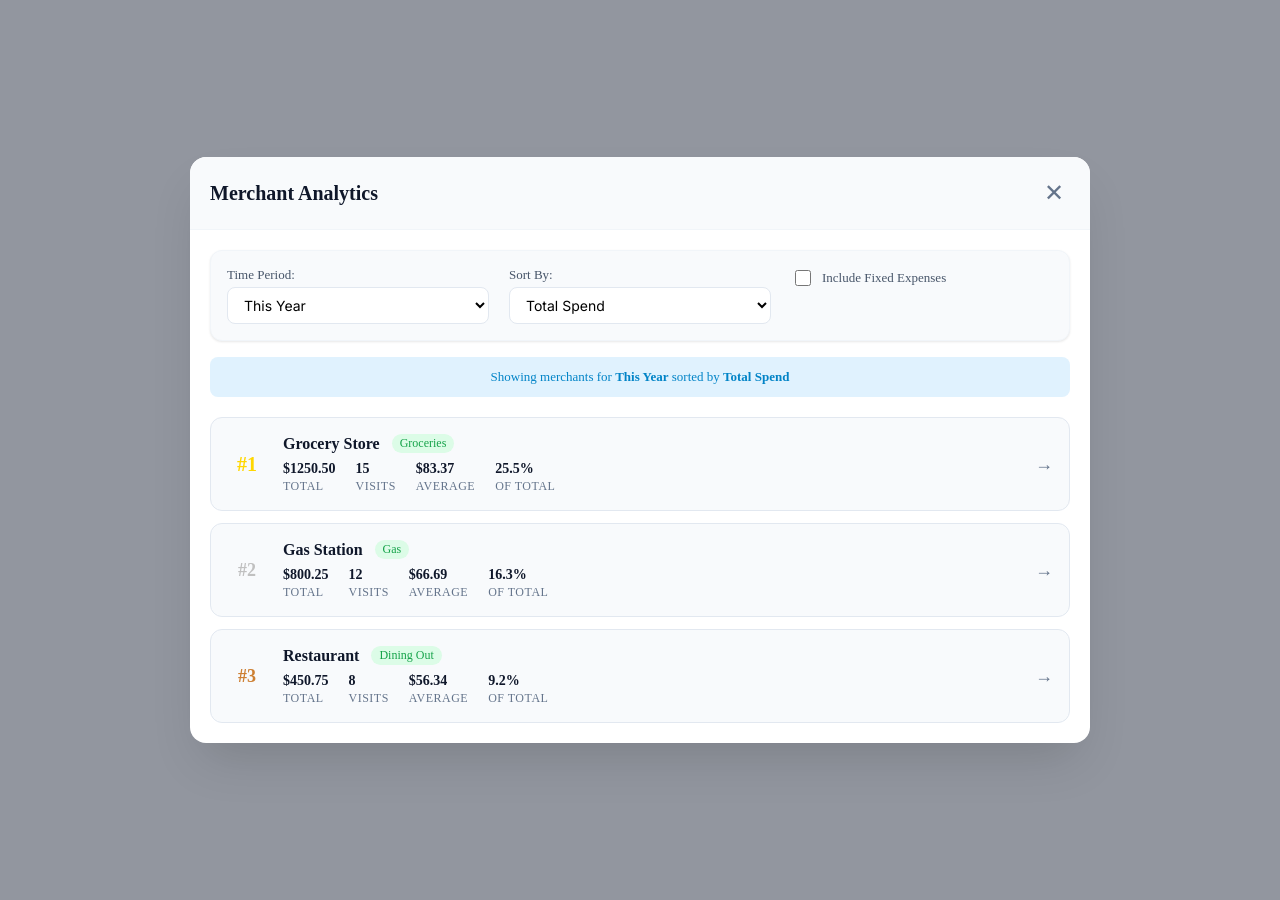
Test case: MerchantAnalyticsModal › Sort Toggle Functionality › handles all sort options correctly
The image size is (1280, 900).
Expected: the text "Grocery Store" is shown, [283,434,380,452]
Select "Visit Count" in the dropdown below "Sort By:" at [640, 306], box [509,287,771,324]
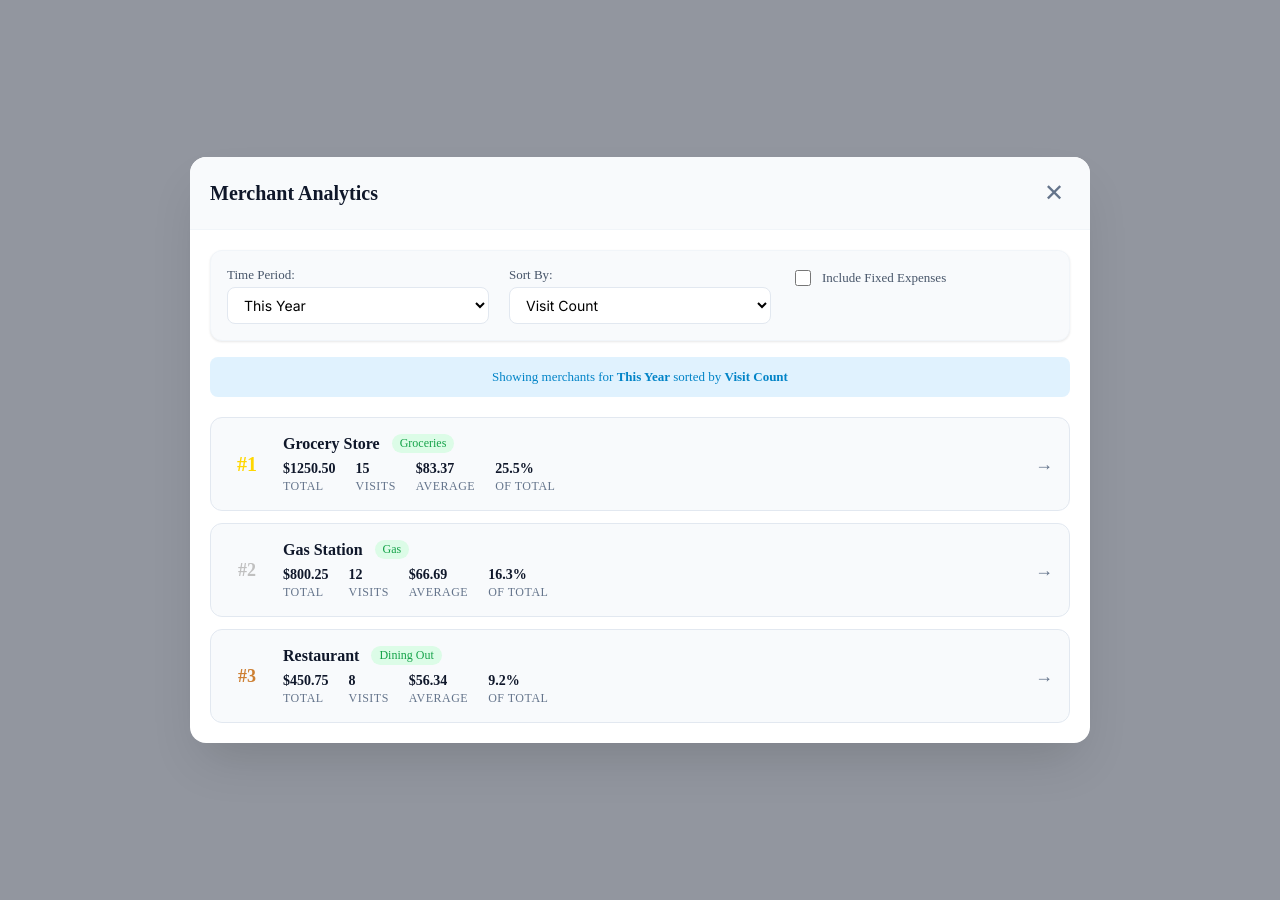
Now the element with class "merchant-analytics-current-filters" shows "Visit Count", box [724,369,788,384]
Select "Average Spend" in the dropdown below "Sort By:" at [640, 306], box [509,287,771,324]
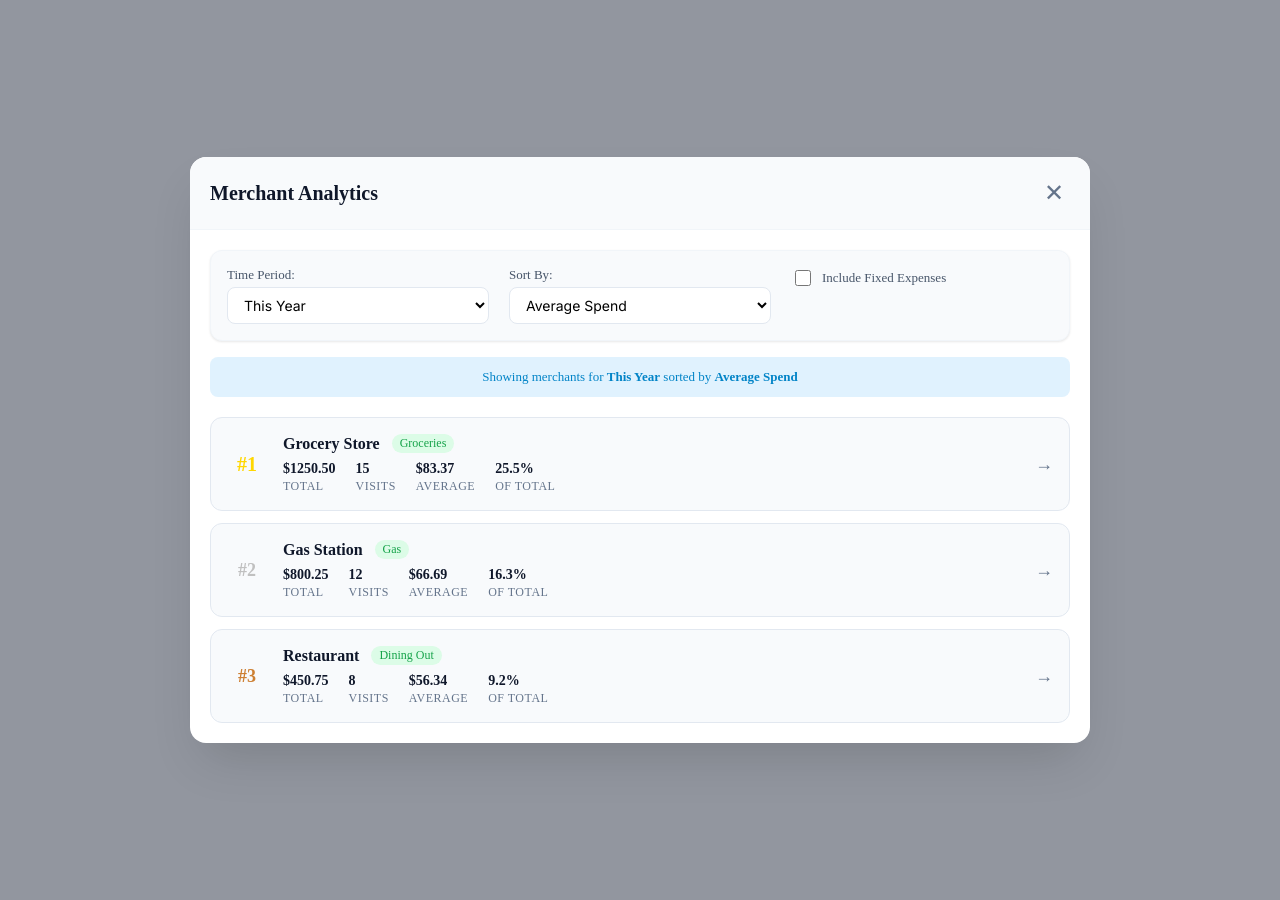
Now the element with class "merchant-analytics-current-filters" shows "Average Spend", box [715,369,798,384]
Select "Total Spend" in the dropdown below "Sort By:" at [640, 306], box [509,287,771,324]
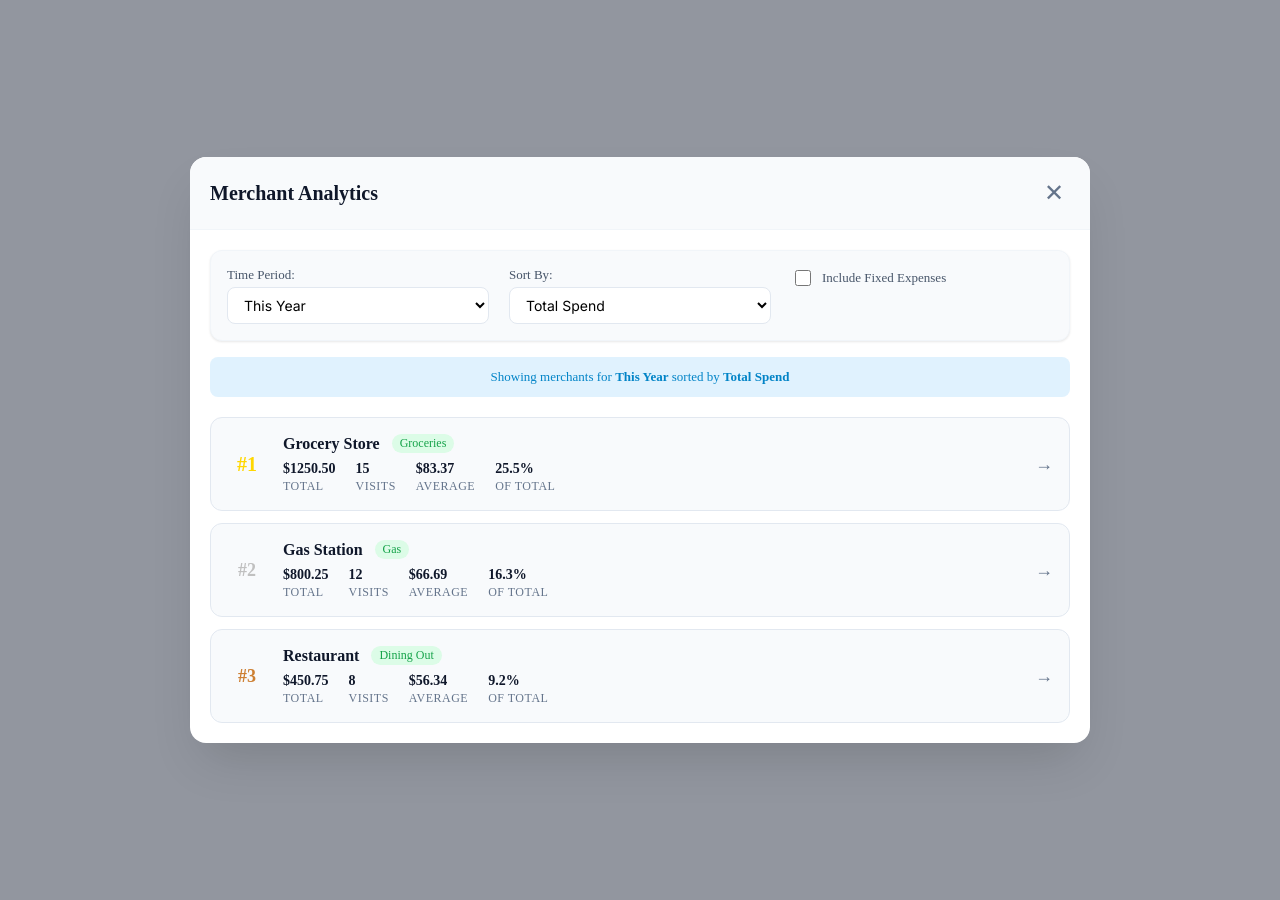
Now the element with class "merchant-analytics-current-filters" shows "Total Spend", box [723,369,789,384]
